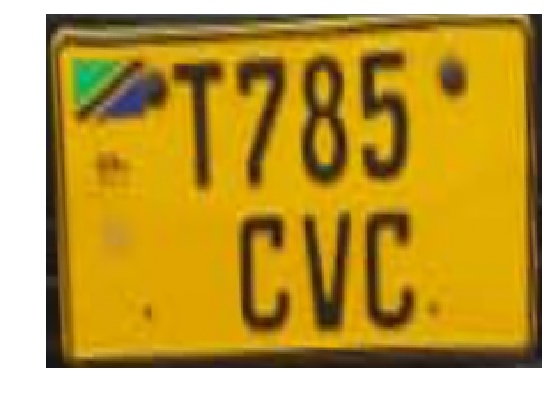T: (168, 54, 231, 198)
